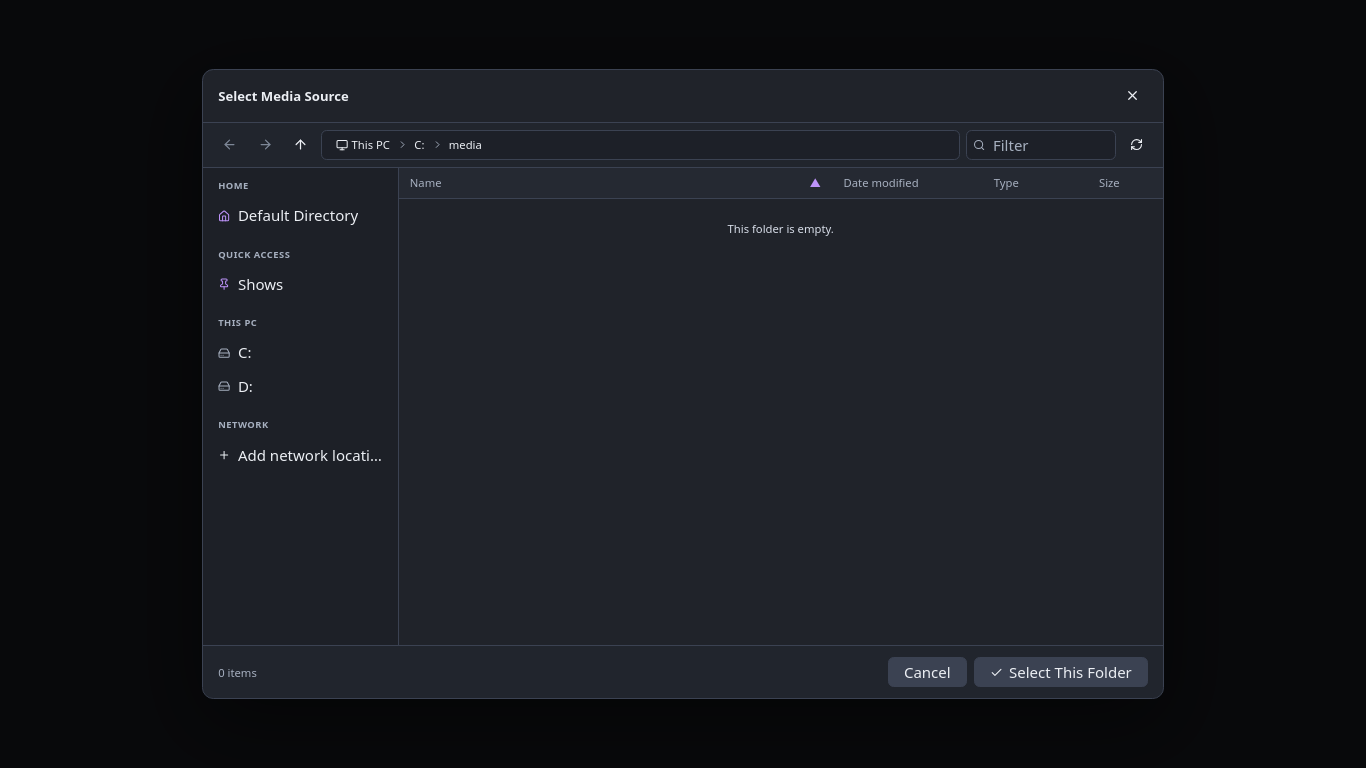
file browser navigation › shows the default directory as Home above Quick Access
Click the button "Default Directory". click: (300, 216)
box: [203,199,398,232]
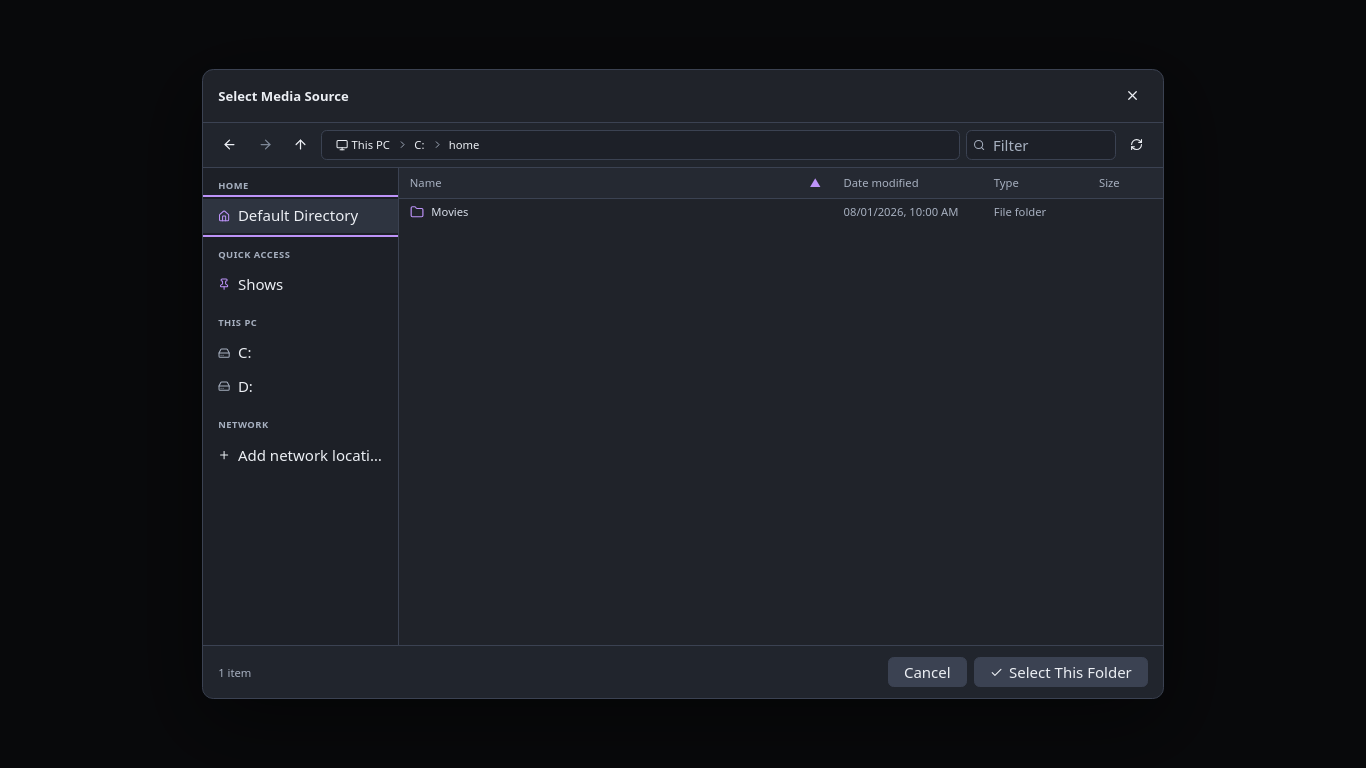
Result: the text "Movies" is shown at [431,204,468,219]
